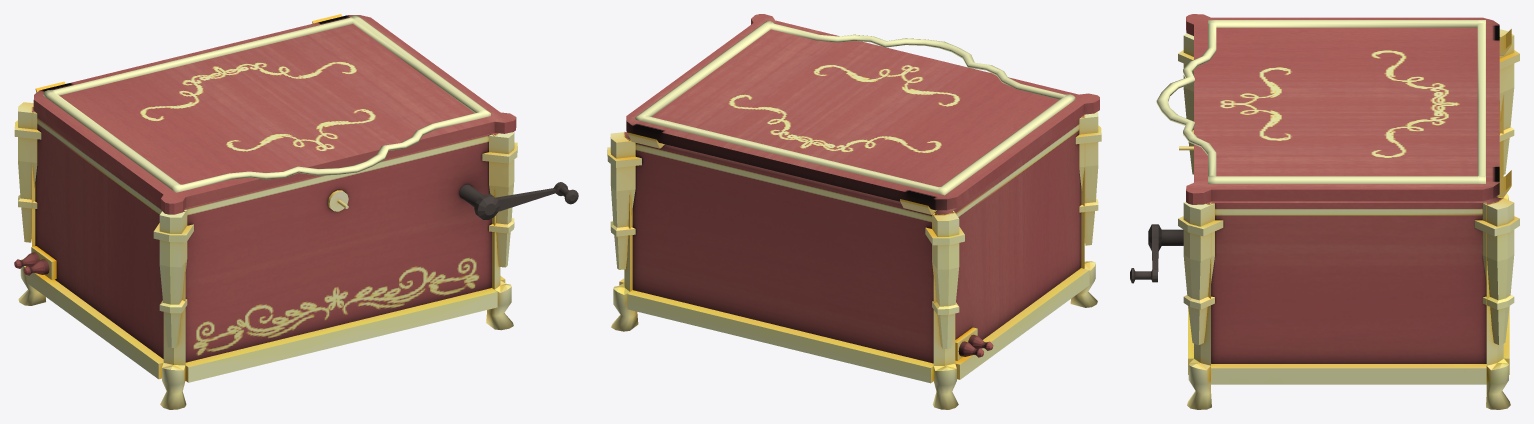
3 views of the same model, side by side, from view 1: azimuth 30°, elevation 25°; view 2: azimuth 150°, elevation 25°; view 3: azimuth 270°, elevation 25° (orthographic). The views are drawn at different scales.
Visible parts, largest first — view 1: Box001, Object004, Object001; view 2: Box001, Object004, Object003; view 3: Box001, Object004, Object001, Object003.
Boxes of the visible parts, left/top/right/bottom form: Box001: left=14, top=102, right=517, bottom=409; Object004: left=33, top=15, right=516, bottom=214; Object001: left=459, top=182, right=578, bottom=219; Box001: left=607, top=111, right=1101, bottom=409; Object004: left=626, top=14, right=1099, bottom=210; Object003: left=628, top=132, right=936, bottom=214; Box001: left=1178, top=29, right=1519, bottom=409; Object004: left=1156, top=14, right=1499, bottom=204; Object001: left=1130, top=224, right=1183, bottom=283; Object003: left=1496, top=29, right=1511, bottom=197.
Size of the model in its own units: 47.54 by 38.26 by 24.03.
Materials: 3 (3 with a texture image).
